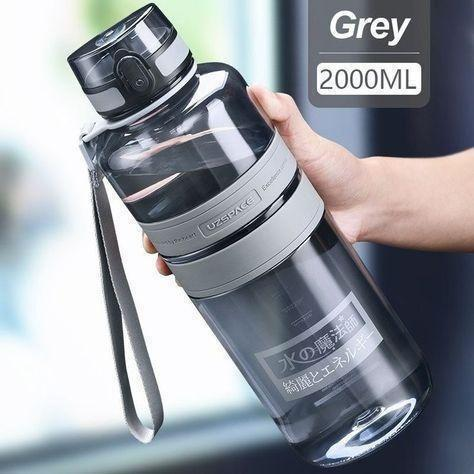gym bottle: (66, 2, 429, 467)
